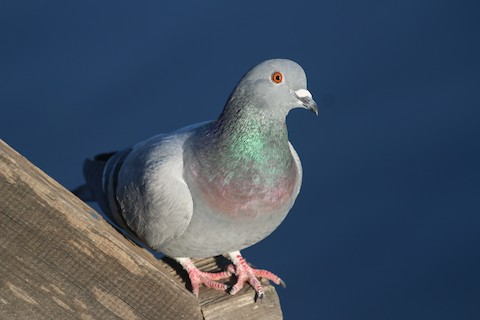pigeon: (71, 57, 322, 300)
